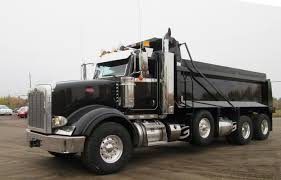truck: (23, 34, 272, 176)
